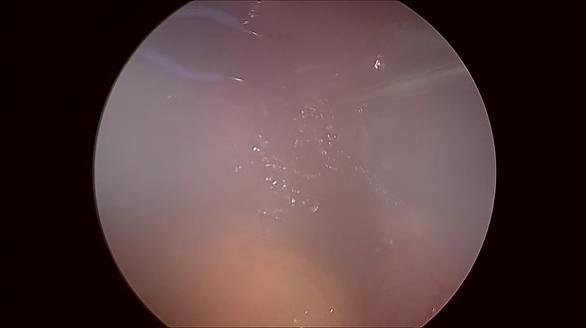Bipolar: (135, 4, 270, 97)
